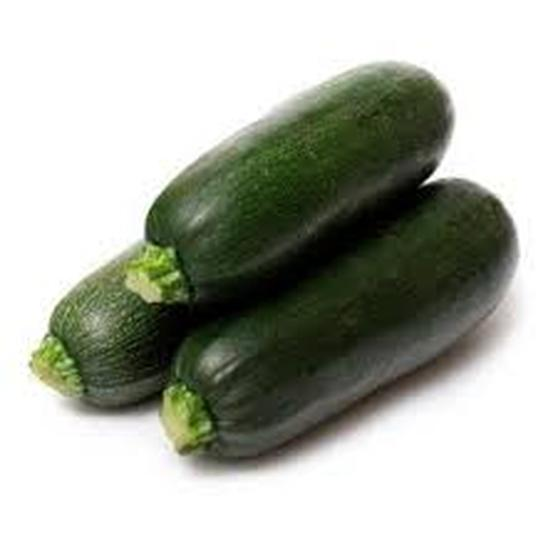zucchini: (127, 46, 456, 321)
